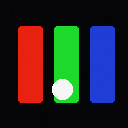2 circle: (52, 79, 72, 99)
